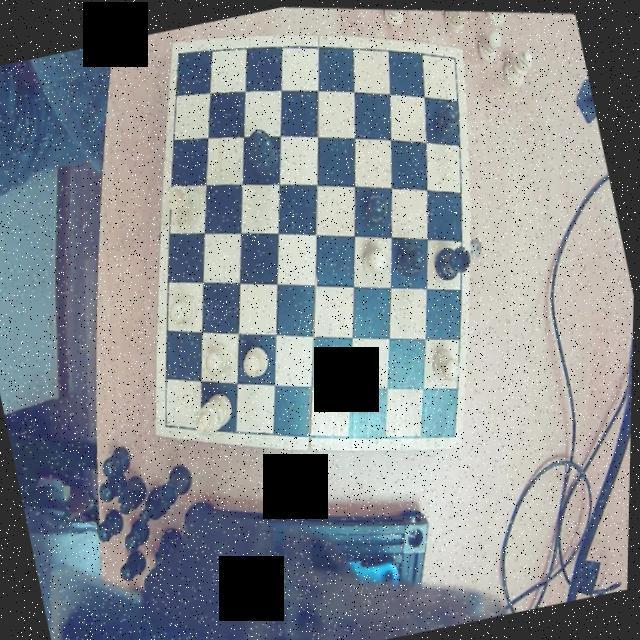chess-table-corners: (436, 412, 468, 448), (154, 408, 186, 440), (166, 38, 193, 72), (436, 40, 464, 70)
